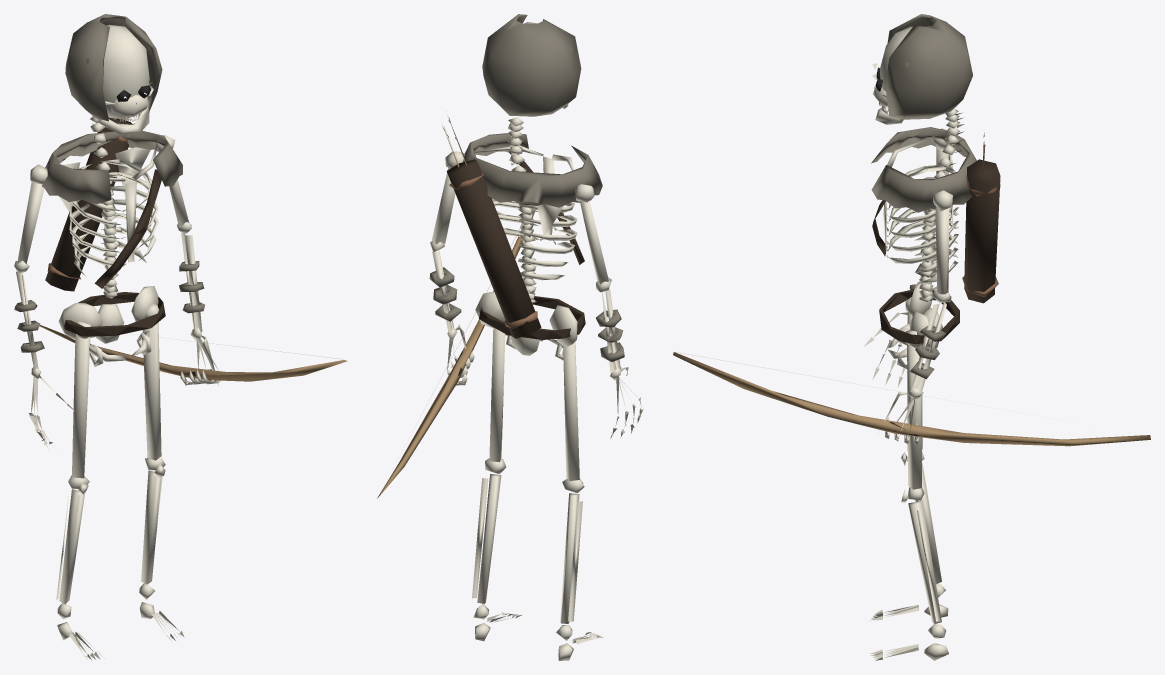
File: undead_leather.glb
The picture shows the model from 3 angles, left to right: view 1: azimuth 30°, elevation 25°; view 2: azimuth 150°, elevation 25°; view 3: azimuth 270°, elevation 25°; orthographic projection. The views are drawn at different scales.
Parts seen in each view (by area): view 1: B_0d; view 2: B_0d; view 3: B_0d.
Boxes of the visible parts, x1=… form: B_0d: x1=14, y1=14, x2=347, y2=659; B_0d: x1=377, y1=14, x2=644, y2=660; B_0d: x1=673, y1=14, x2=1150, y2=660.
Bounding box in the file's own units: 0.6467 × 1.87 × 1.31.
